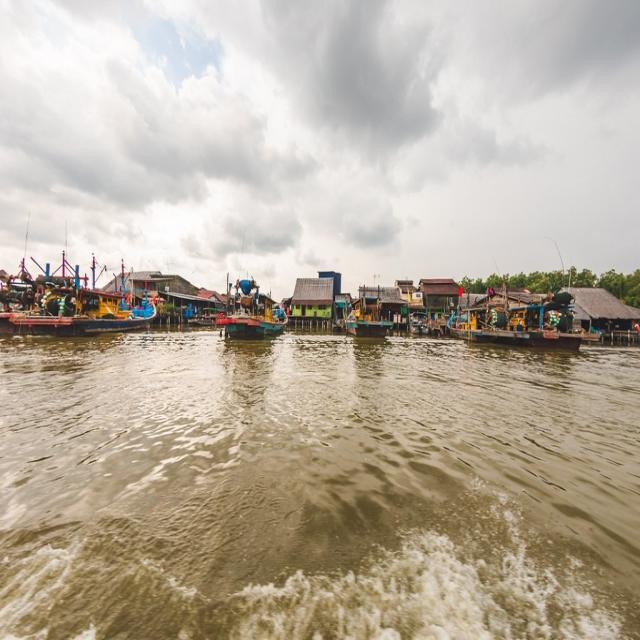boat: (221, 276, 289, 345), (527, 294, 594, 358), (444, 309, 533, 352), (346, 297, 390, 342)
